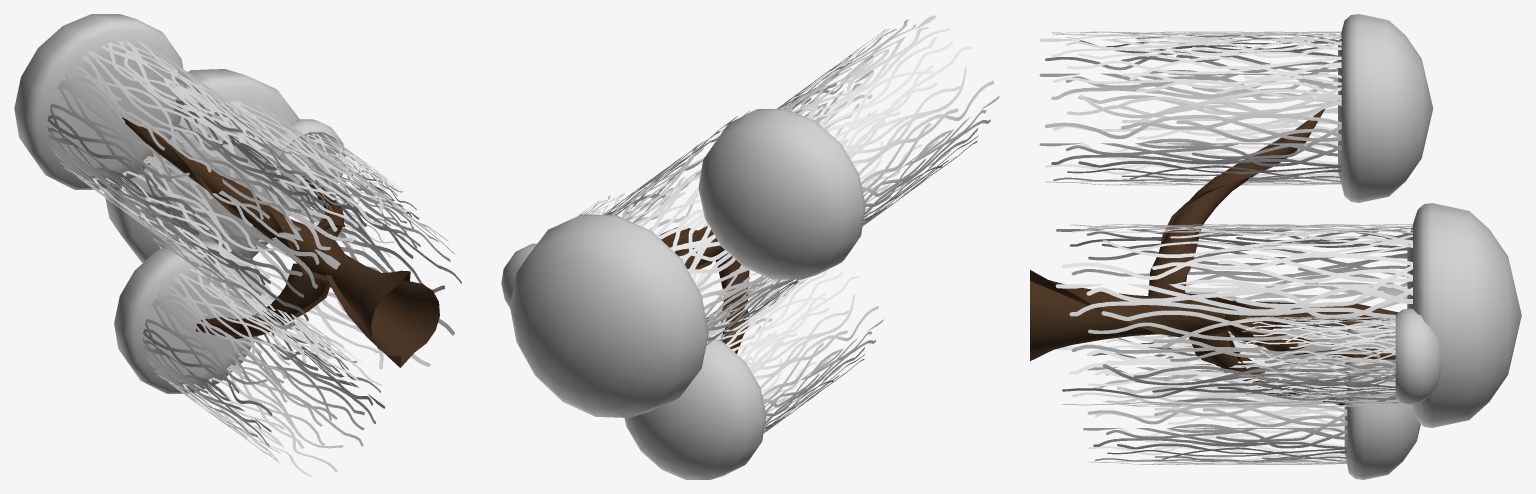
File: Tree1.fbx
The picture shows the model from 3 angles, left to right: view 1: azimuth 30°, elevation 25°; view 2: azimuth 150°, elevation 25°; view 3: azimuth 270°, elevation 25°; orthographic projection. The views are drawn at different scales.
Visible parts, largest first — view 1: Tree1; view 2: Tree1; view 3: Tree1.
Boxes of the visible parts, x1,y1,x2,y2 form: Tree1: (14,14,461,476); Tree1: (501,15,999,479); Tree1: (1030,14,1521,479).
Size of the model in its own units: 246158 by 297291 by 270063.
